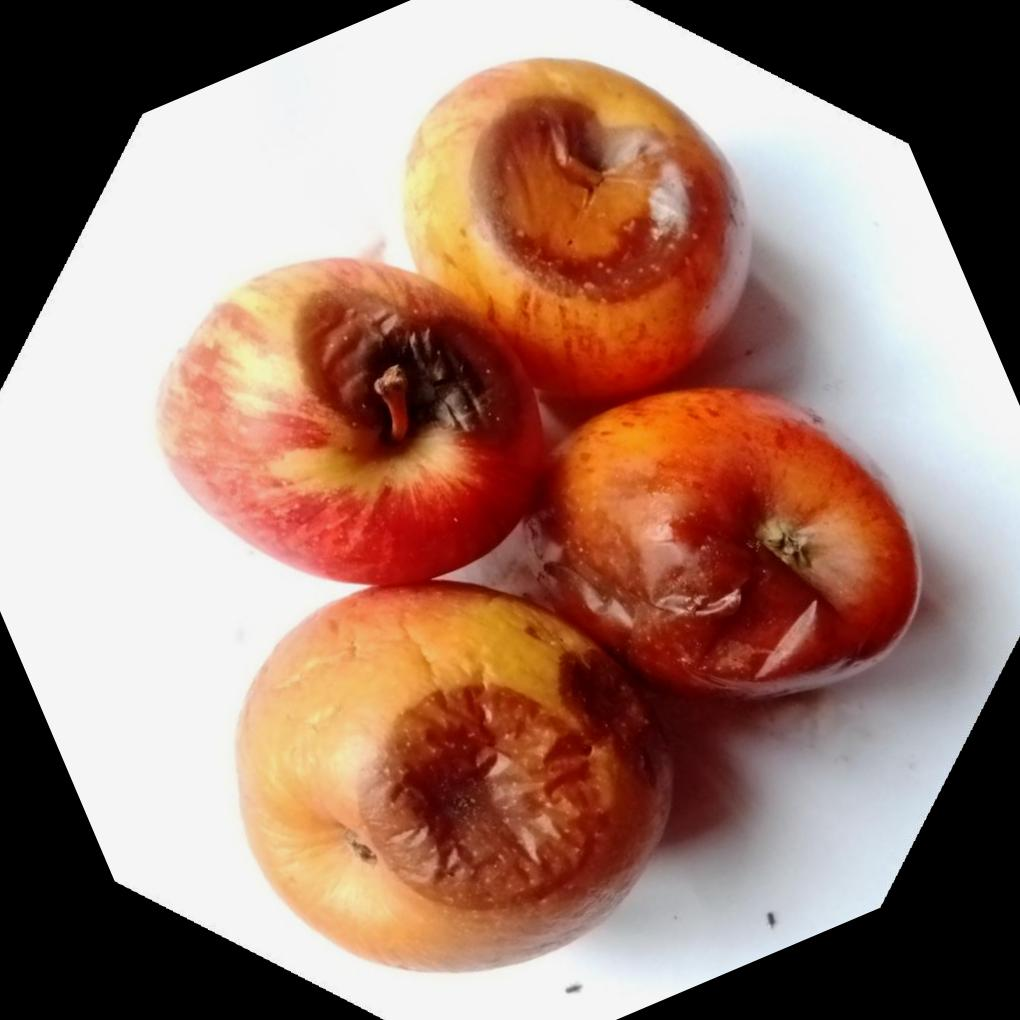FreshOrange: (153, 97, 919, 970)
